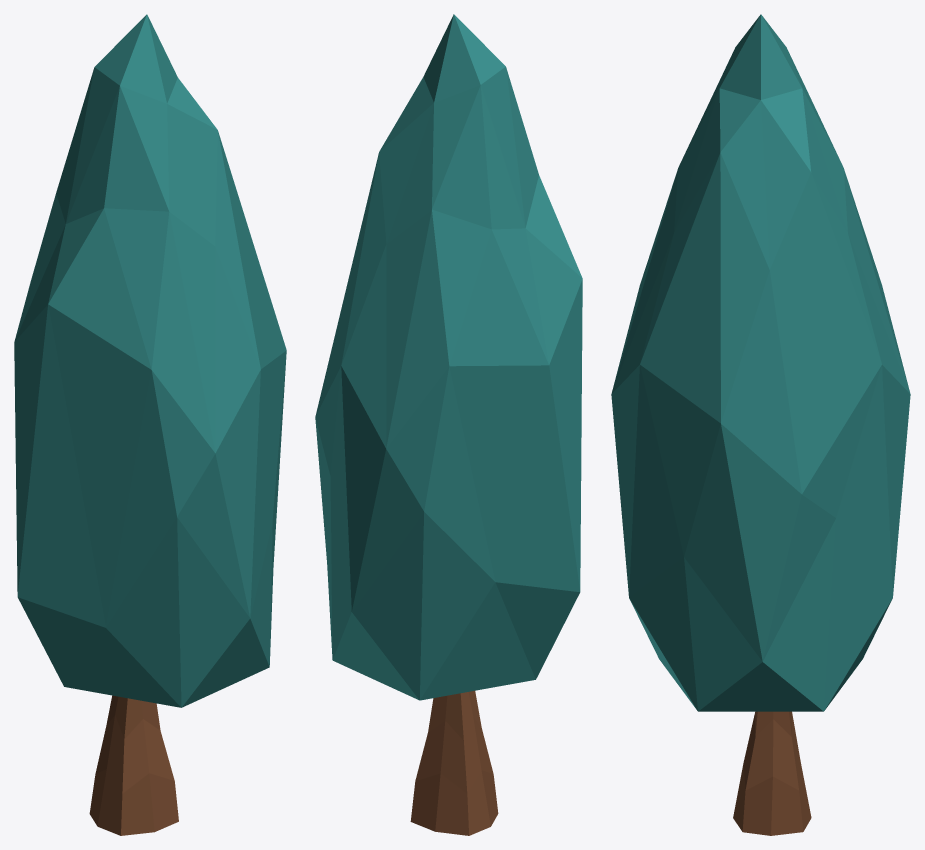
File: Tree_46_Blue.fbx
3 views of the same model, side by side, from view 1: azimuth 30°, elevation 25°; view 2: azimuth 150°, elevation 25°; view 3: azimuth 270°, elevation 25° (orthographic).
Parts seen in each view (by area): view 1: Tree_46_Blue_Part_1, Tree_46_Blue_Part_2; view 2: Tree_46_Blue_Part_1, Tree_46_Blue_Part_2; view 3: Tree_46_Blue_Part_1, Tree_46_Blue_Part_2.
Part boxes in pixels (bbox=[...]): Tree_46_Blue_Part_1: bbox=[14, 14, 286, 707]; Tree_46_Blue_Part_2: bbox=[89, 695, 178, 835]; Tree_46_Blue_Part_1: bbox=[315, 14, 582, 700]; Tree_46_Blue_Part_2: bbox=[410, 690, 498, 835]; Tree_46_Blue_Part_1: bbox=[611, 14, 910, 711]; Tree_46_Blue_Part_2: bbox=[733, 711, 811, 835].
Size of the model in its own units: 265 by 797 by 268.
